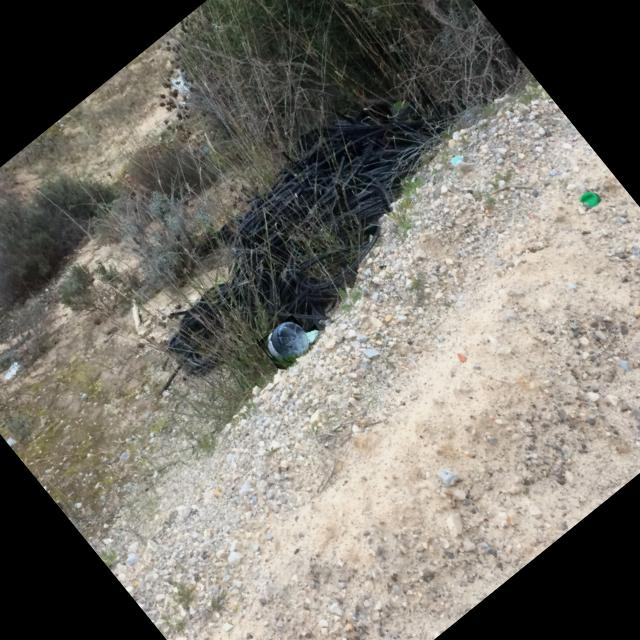Bottle cap: (581, 191, 599, 206), (452, 156, 463, 166)
Clear plastic bottle: (267, 322, 310, 362)
Unlabeled litter: (306, 329, 320, 342)
